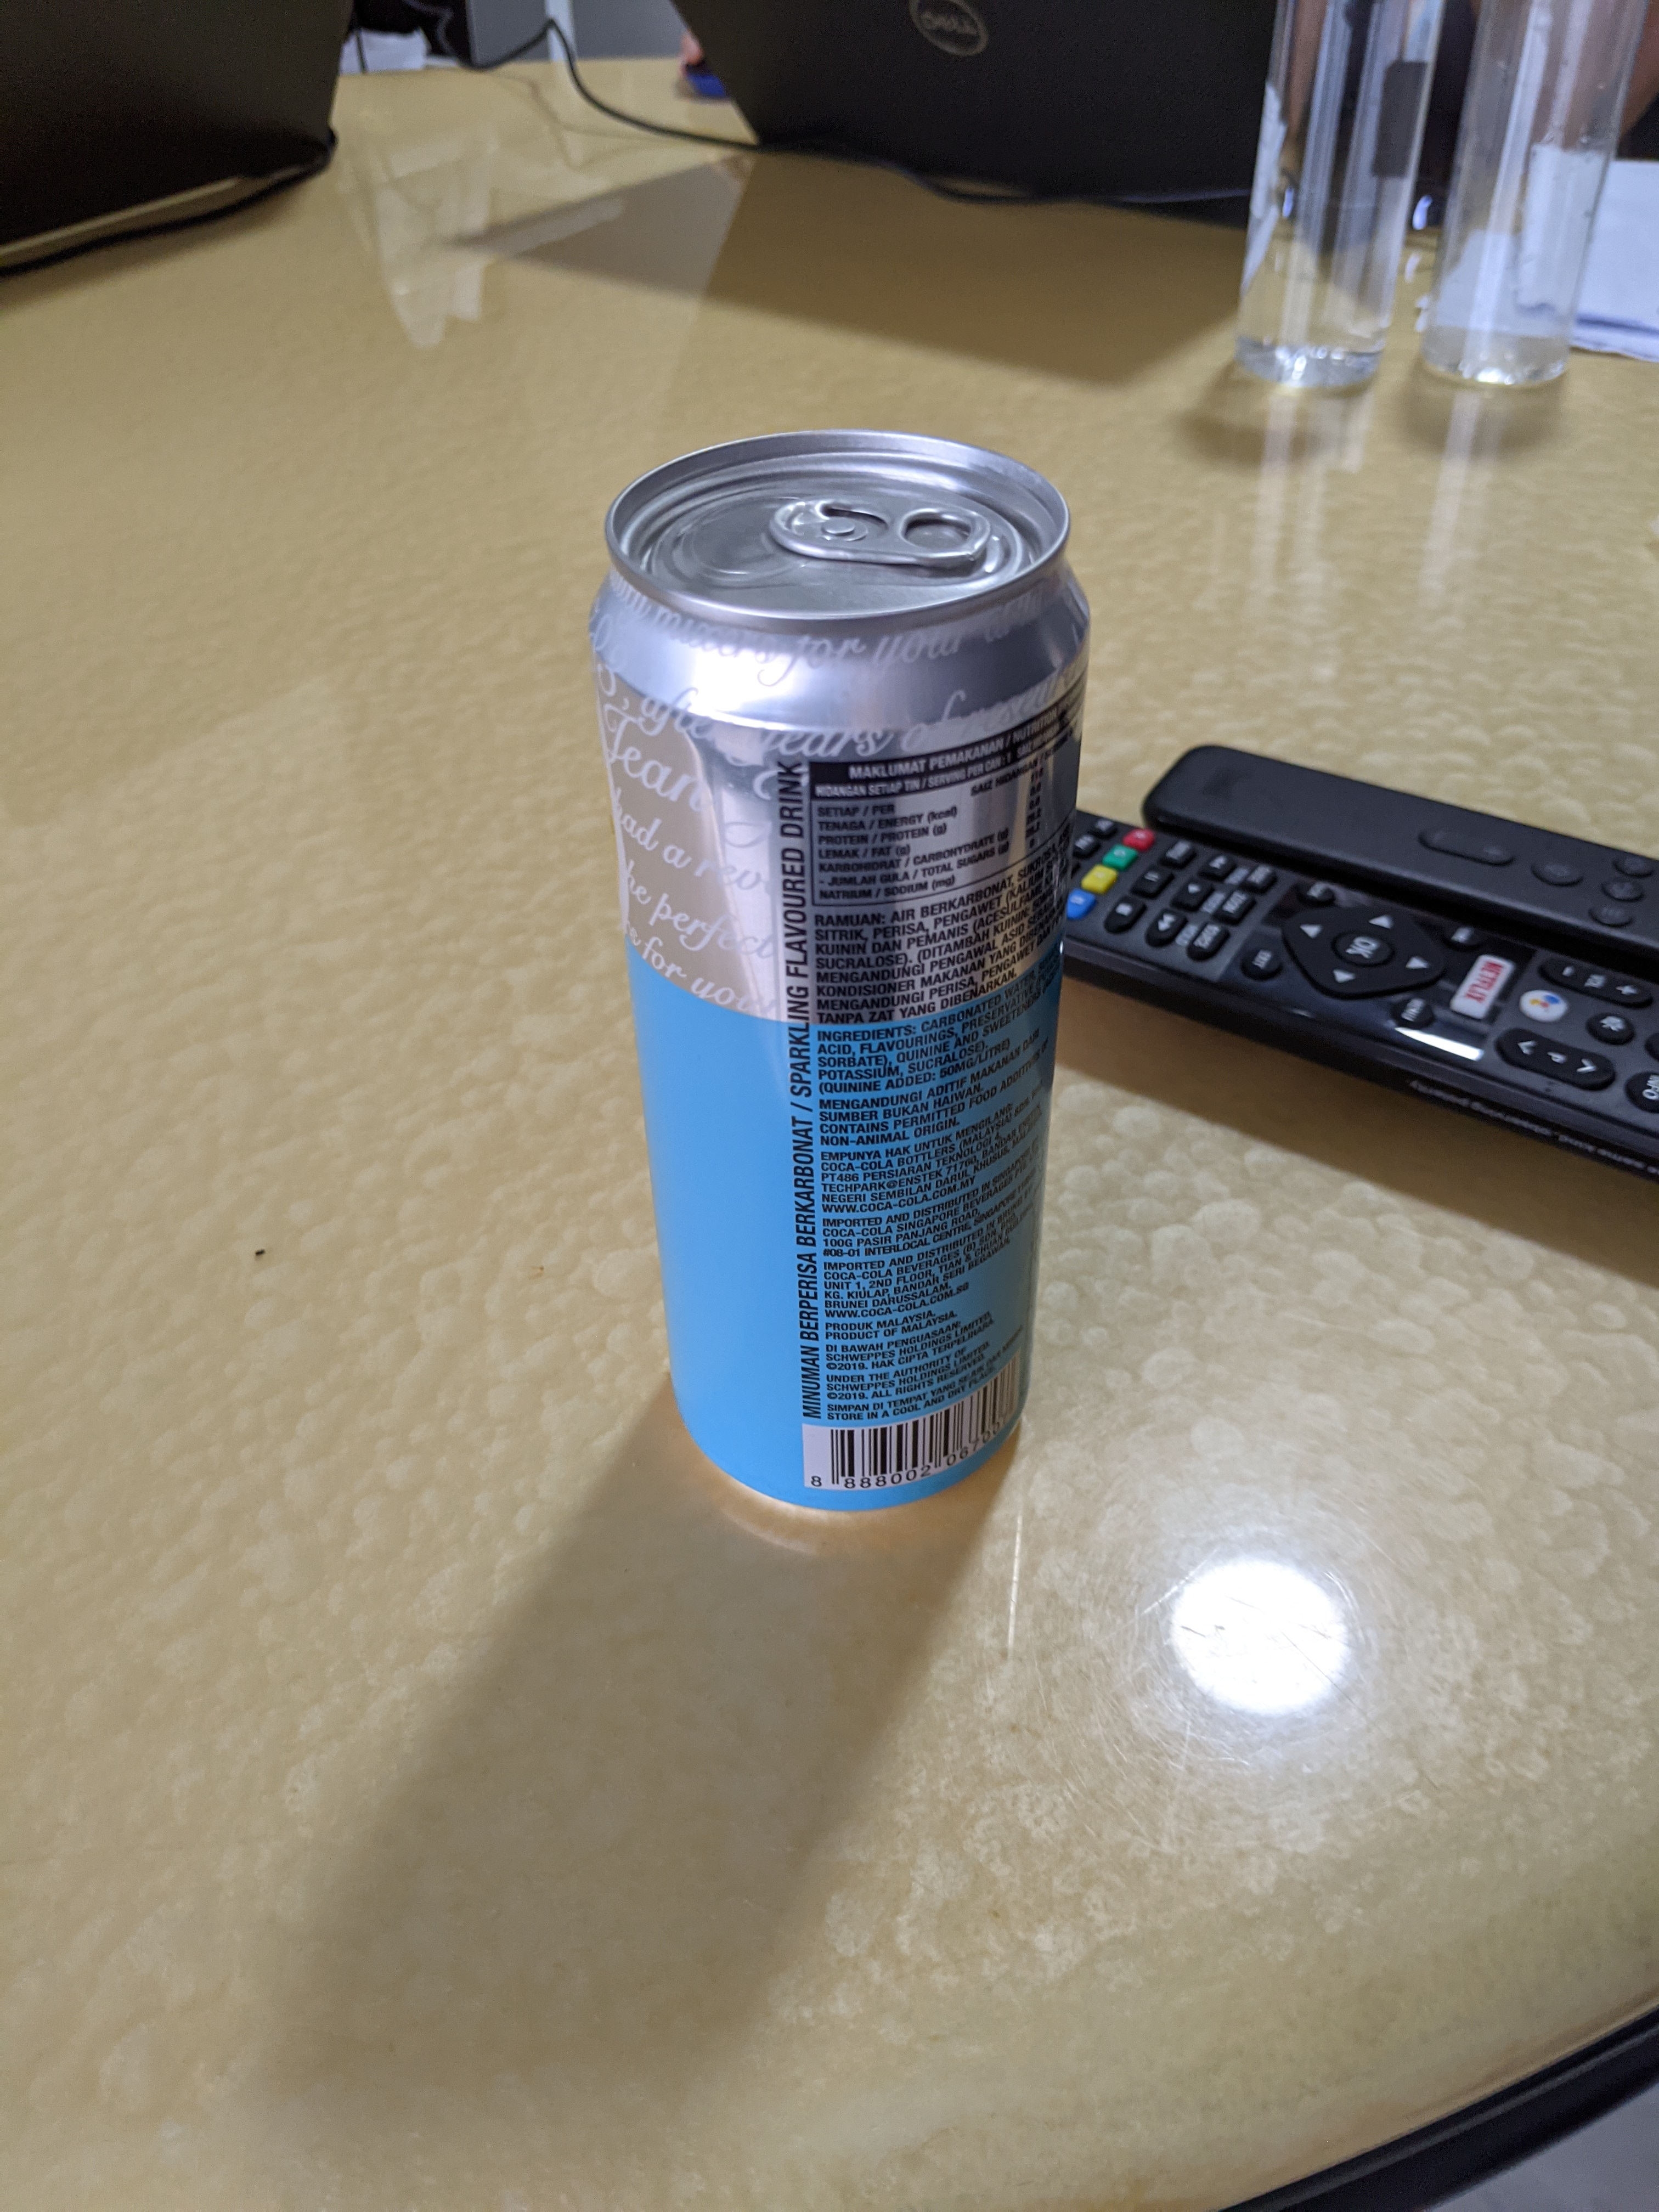schweppes drink can bitter lemon: (575, 416, 1112, 1540)
